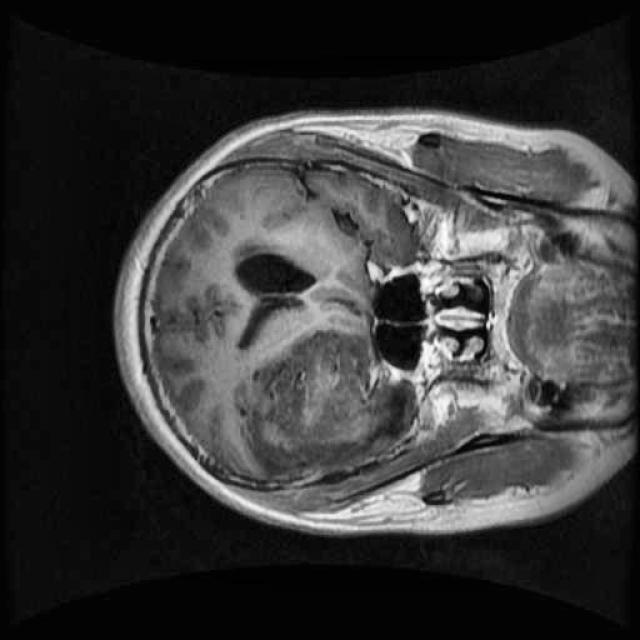Tumor: (220, 310, 442, 501)
